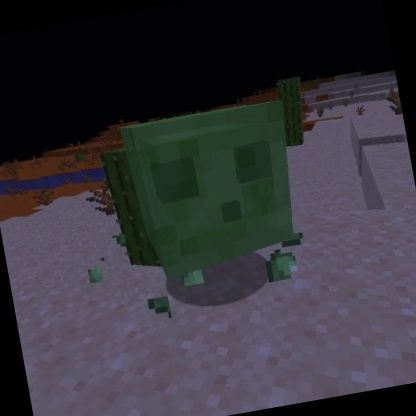slime: (115, 94, 313, 287)
